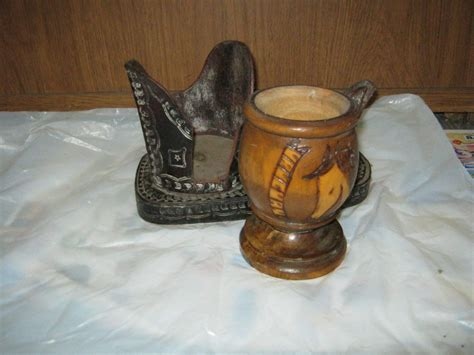cuero: (125, 40, 376, 225)
